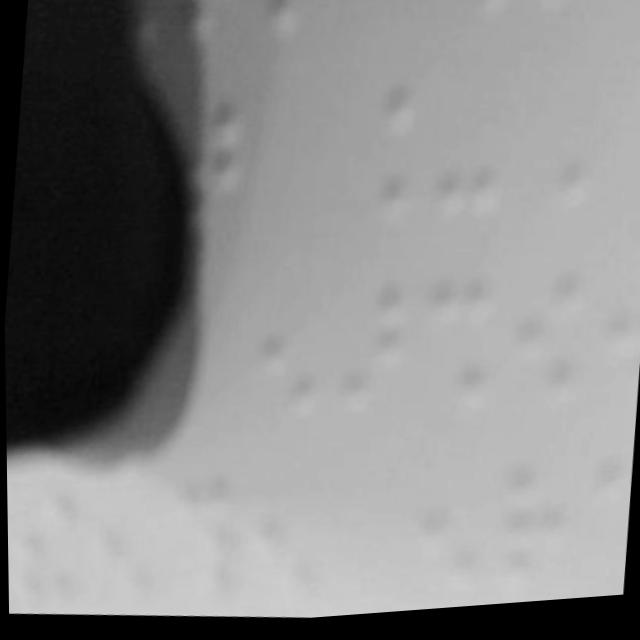braiile: (421, 68, 510, 234), (506, 61, 594, 220), (238, 469, 329, 620), (336, 75, 422, 234), (395, 466, 485, 617), (499, 276, 589, 427), (321, 279, 410, 430), (408, 276, 498, 423), (237, 278, 322, 431), (73, 472, 162, 616), (488, 472, 573, 612), (6, 475, 79, 615), (586, 280, 640, 420), (593, 68, 640, 219)
